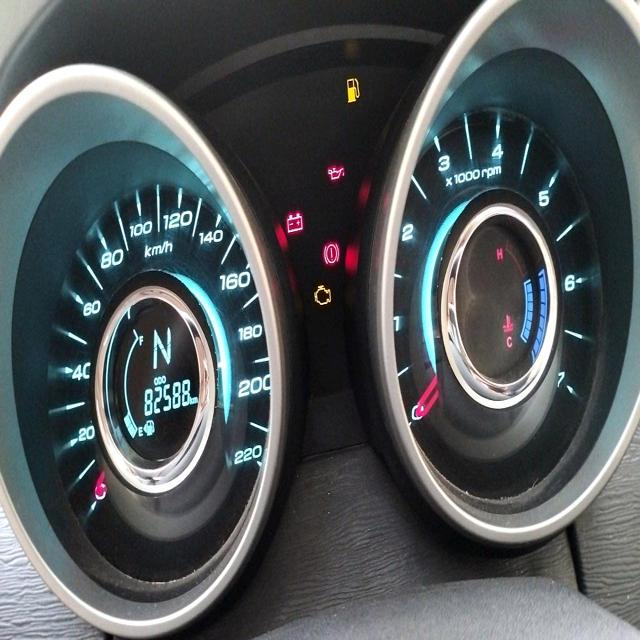odometer: (143, 376, 191, 420)
